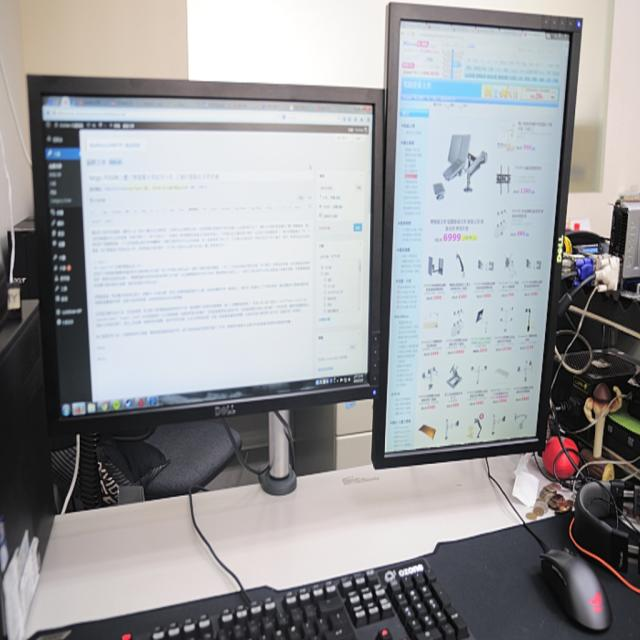Computer-mouse: (540, 541, 612, 634)
